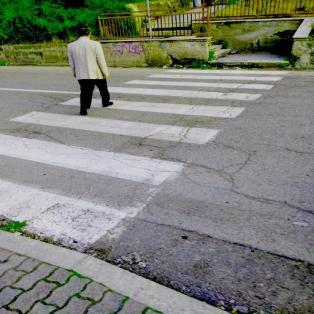Paso de Cebra: (1, 132, 189, 265), (50, 85, 274, 120)
